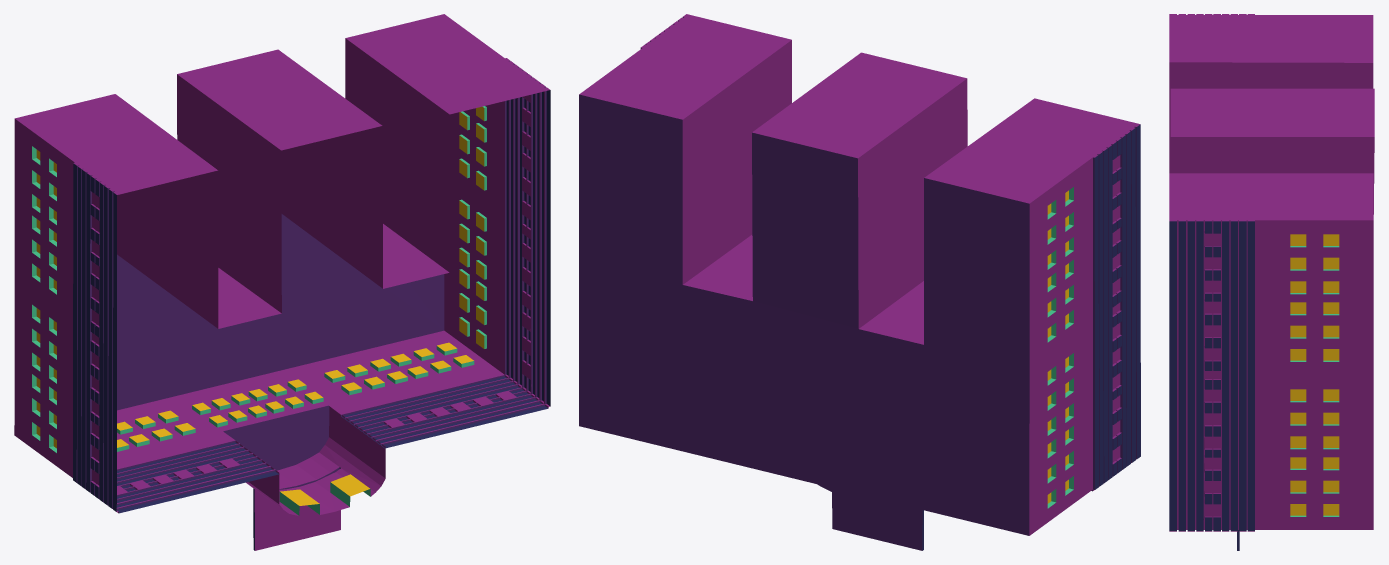
The model's file is Urząd Miejski Kilińskiego Tier 3.fbx.
3 renders of one model, left to right at view 1: azimuth 30°, elevation 25°; view 2: azimuth 150°, elevation 25°; view 3: azimuth 270°, elevation 25°, orthographic. The views are drawn at different scales.
Visible parts, largest first — view 1: Urzad_miejski_kilinskiego; view 2: Urzad_miejski_kilinskiego; view 3: Urzad_miejski_kilinskiego.
Part boxes in pixels (bbox=[...]): Urzad_miejski_kilinskiego: bbox=[14, 14, 550, 550]; Urzad_miejski_kilinskiego: bbox=[579, 14, 1140, 550]; Urzad_miejski_kilinskiego: bbox=[1169, 14, 1374, 550].
Size of the model in its own units: 3.68 by 3.46 by 1.54.
